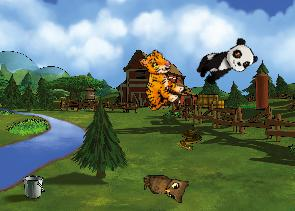owl: (142, 175, 189, 203)
panda: (192, 34, 259, 91)
tiger: (123, 46, 191, 116)
